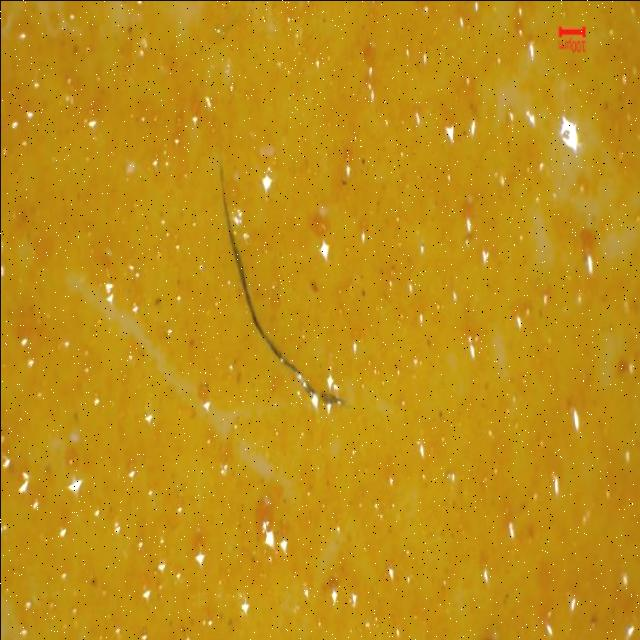Fibre: (214, 152, 340, 406)
